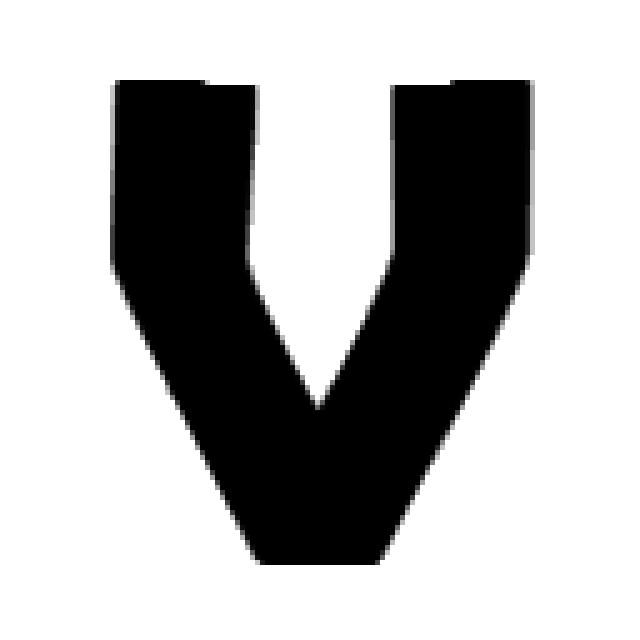V: (100, 65, 540, 570)
